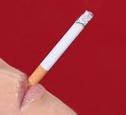smoke: (23, 10, 94, 95)
